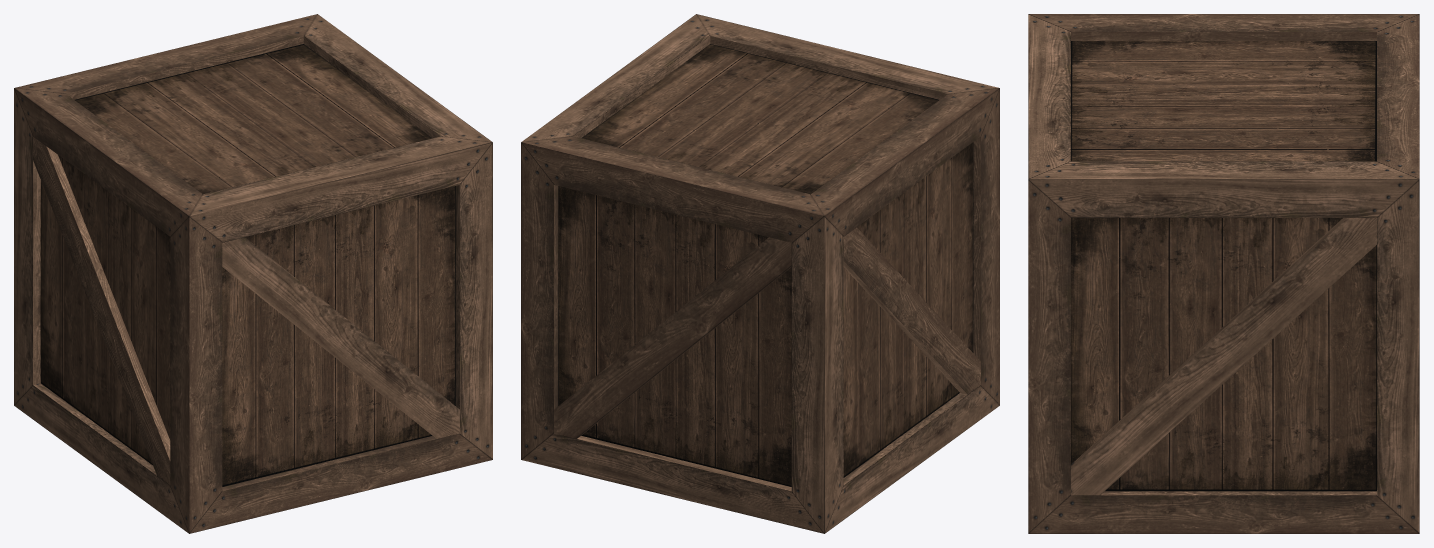
The model's file is crate.FBX.
3 renders of one model, left to right at view 1: azimuth 30°, elevation 25°; view 2: azimuth 150°, elevation 25°; view 3: azimuth 270°, elevation 25°, orthographic. The views are drawn at different scales.
Visible parts, largest first — view 1: poorfolks_crate; view 2: poorfolks_crate; view 3: poorfolks_crate.
Boxes of the visible parts, <box> form: poorfolks_crate: <box>14,14,492,533</box>; poorfolks_crate: <box>521,14,999,533</box>; poorfolks_crate: <box>1028,14,1419,533</box>.
Bounding box in the file's own units: 80 × 80 × 80.
